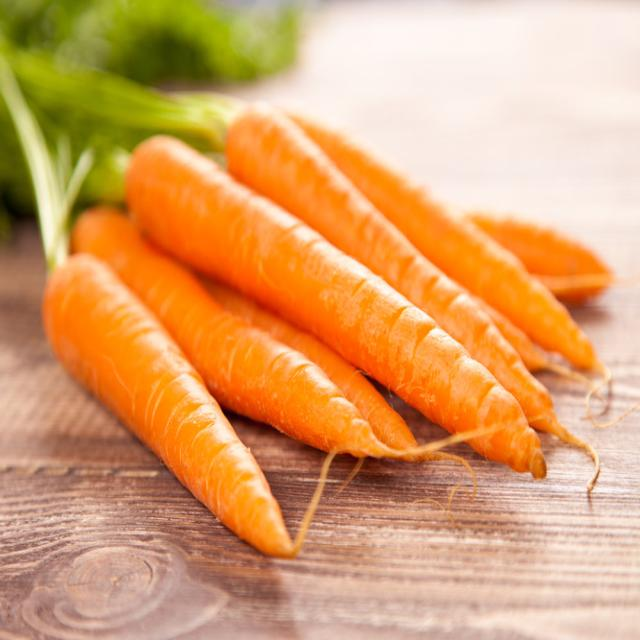Fresh_Carrot: (128, 130, 492, 415)
